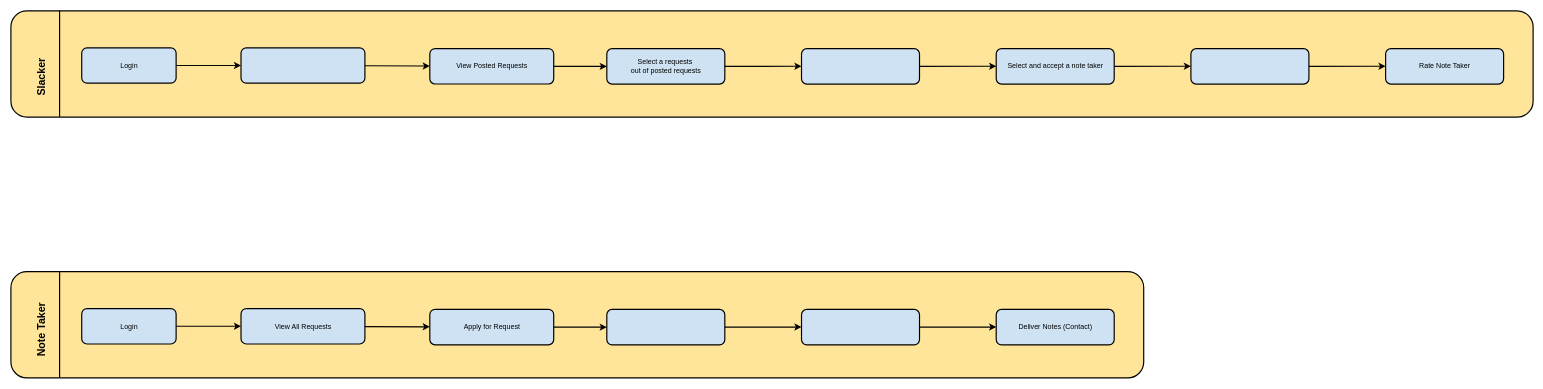
The diagram is 1543 pixels wide and 389 high, and some of its shapes have lost their labels. The shapes that lost their labels are listed below. From the top down, each one's centre as x and y in pixels, then its label:
(302,65): Post A Request
(860,66): Browse through note takers
(1249,66): Notification of note takers acceptance
(665,327): Handshake
(860,327): Go to class
